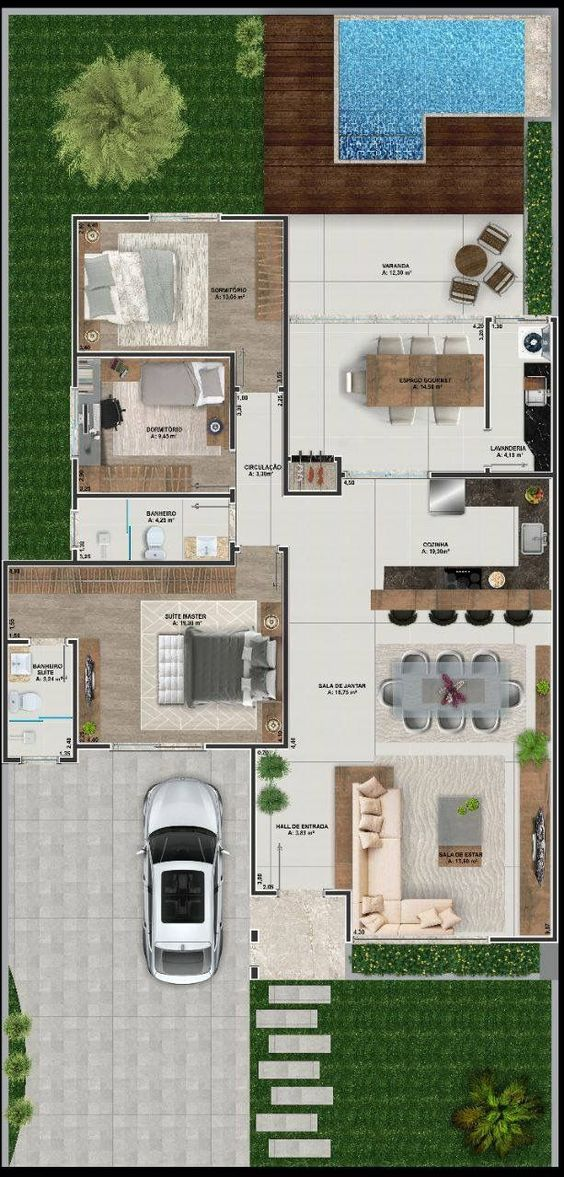room: (337, 471, 557, 943), (72, 561, 286, 748), (70, 214, 289, 355), (72, 351, 236, 497)
